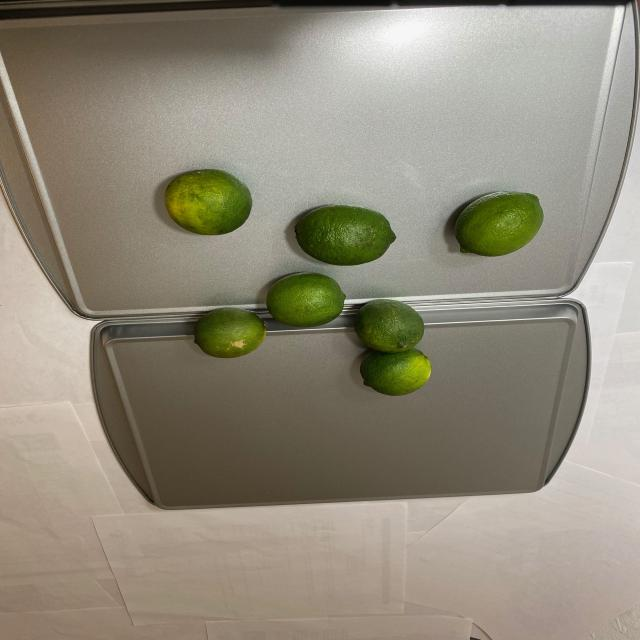lemon: (158, 170, 430, 400), (451, 186, 549, 259)
